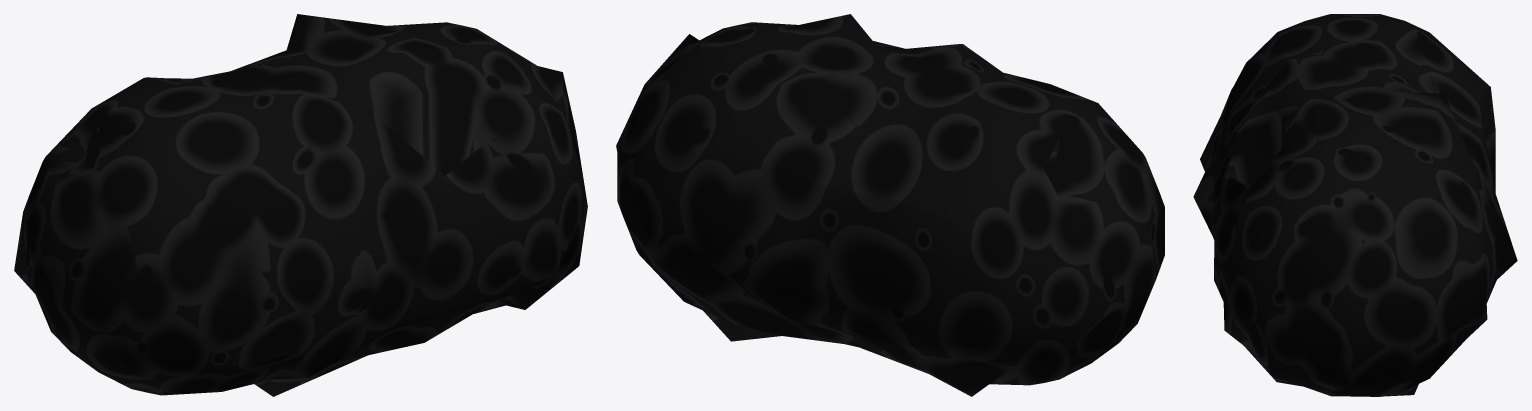
Rendered from DeadBacteriaMesh.fbx.
The picture shows the model from 3 angles, left to right: view 1: azimuth 30°, elevation 25°; view 2: azimuth 150°, elevation 25°; view 3: azimuth 270°, elevation 25°; orthographic projection. The views are drawn at different scales.
Visible parts, largest first — view 1: Mball.004; view 2: Mball.004; view 3: Mball.004.
Boxes of the visible parts, left/top/right/bottom form: Mball.004: left=14, top=14, right=587, bottom=396; Mball.004: left=616, top=14, right=1164, bottom=396; Mball.004: left=1193, top=14, right=1517, bottom=396.
Size of the model in its own units: 2.5 by 1.5 by 1.5.
Materials: 1 (1 with a texture image).
